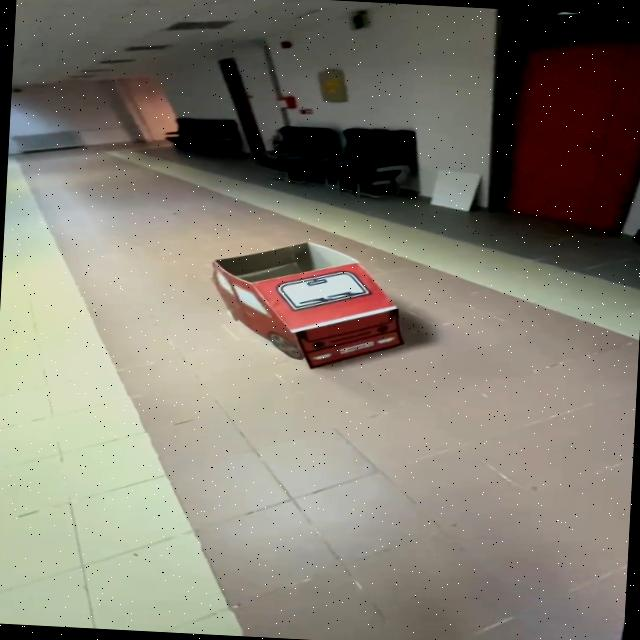red_car: (180, 220, 447, 402)
